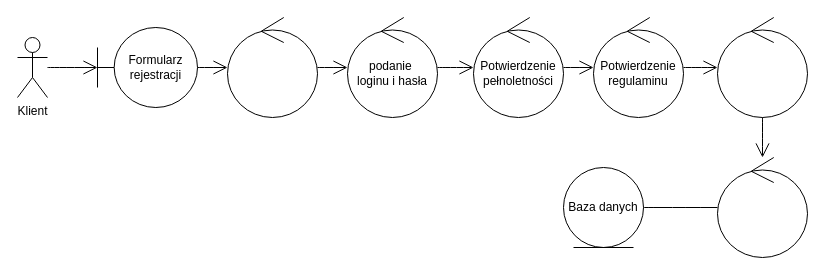
The diagram is 825 pixels wide and 275 high, and some of its shapes have lost their labels. Here are the shapes that lost their labels. From the top down, the centre of each, then its label:
the point at 272,67: podanie adresu e-mail
the point at 762,67: Potwierdzenie warunków umowy
the point at 762,207: Aktualizacja bazy danych
